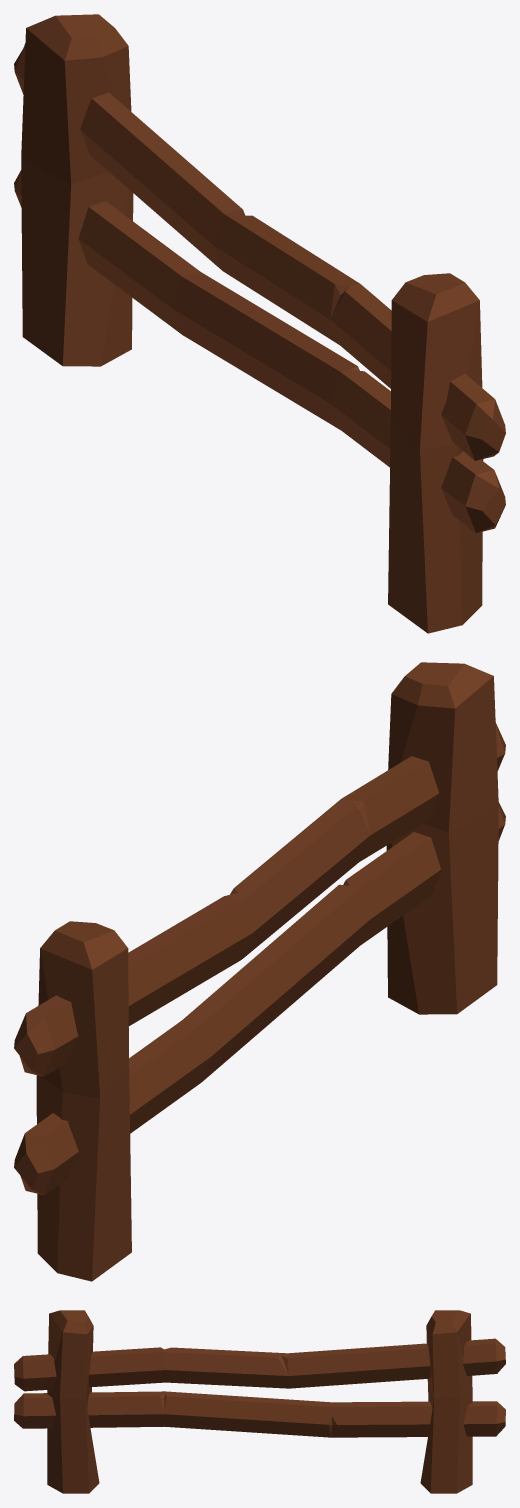
File: WoodFence.fbx
3 views of the same model, one above another, from view 1: azimuth 30°, elevation 25°; view 2: azimuth 150°, elevation 25°; view 3: azimuth 270°, elevation 25° (orthographic). The views are drawn at different scales.
Visible parts, largest first — view 1: WoodFence_LOD0; view 2: WoodFence_LOD0; view 3: WoodFence_LOD0.
Boxes of the visible parts, x1=… form: WoodFence_LOD0: x1=14, y1=14, x2=505, y2=633; WoodFence_LOD0: x1=14, y1=662, x2=505, y2=1281; WoodFence_LOD0: x1=14, y1=1310, x2=505, y2=1493.
Size of what is drawn, in the model's own units: 66.61 by 262 by 685.
